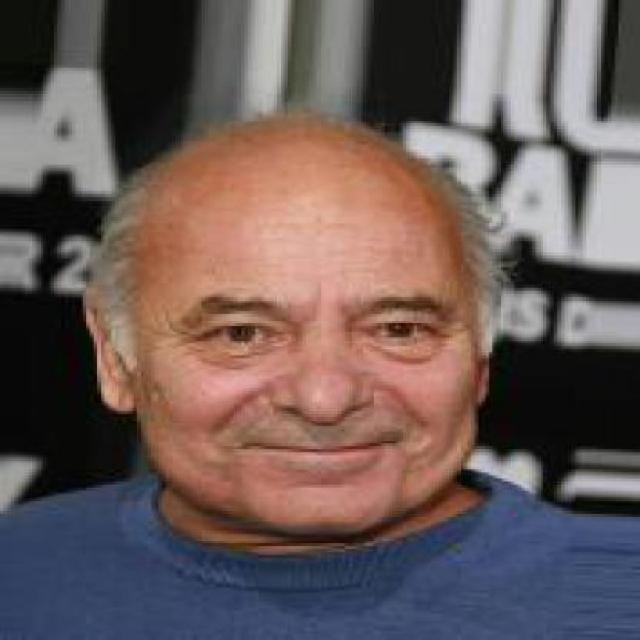closed-mouth: (240, 438, 406, 462)
